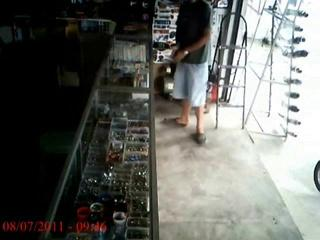Normal: (166, 0, 212, 144)
